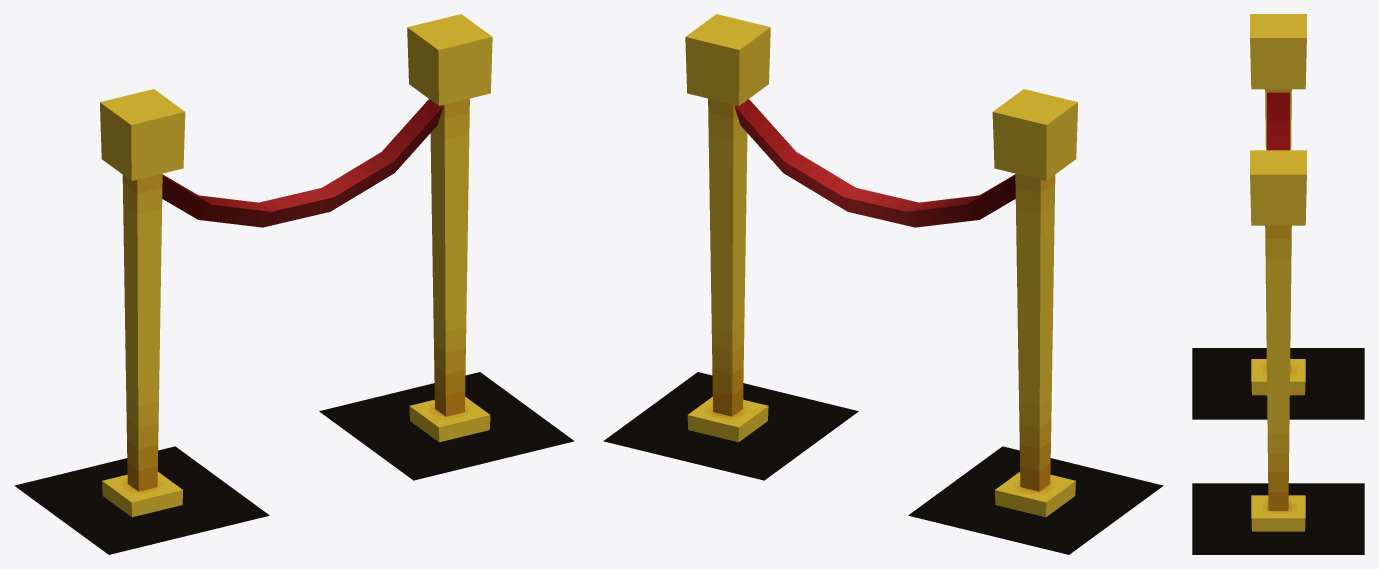
Rendered from end_velvet_rope.FBX.
3 renders of one model, left to right at view 1: azimuth 30°, elevation 25°; view 2: azimuth 150°, elevation 25°; view 3: azimuth 270°, elevation 25°, orthographic. The views are drawn at different scales.
Visible parts, largest first — view 1: end_velvet_rope, end_velvet_rope_soft_shadow; view 2: end_velvet_rope, end_velvet_rope_soft_shadow; view 3: end_velvet_rope_soft_shadow, end_velvet_rope.
Part boxes in pixels (<box>): end_velvet_rope: <box>100,14,492,517</box>; end_velvet_rope_soft_shadow: <box>14,372,574,554</box>; end_velvet_rope: <box>685,14,1077,517</box>; end_velvet_rope_soft_shadow: <box>603,372,1163,554</box>; end_velvet_rope_soft_shadow: <box>1192,348,1364,554</box>; end_velvet_rope: <box>1250,14,1306,531</box>.
Bounding box in the file's own units: 1289 × 1050 × 454.
